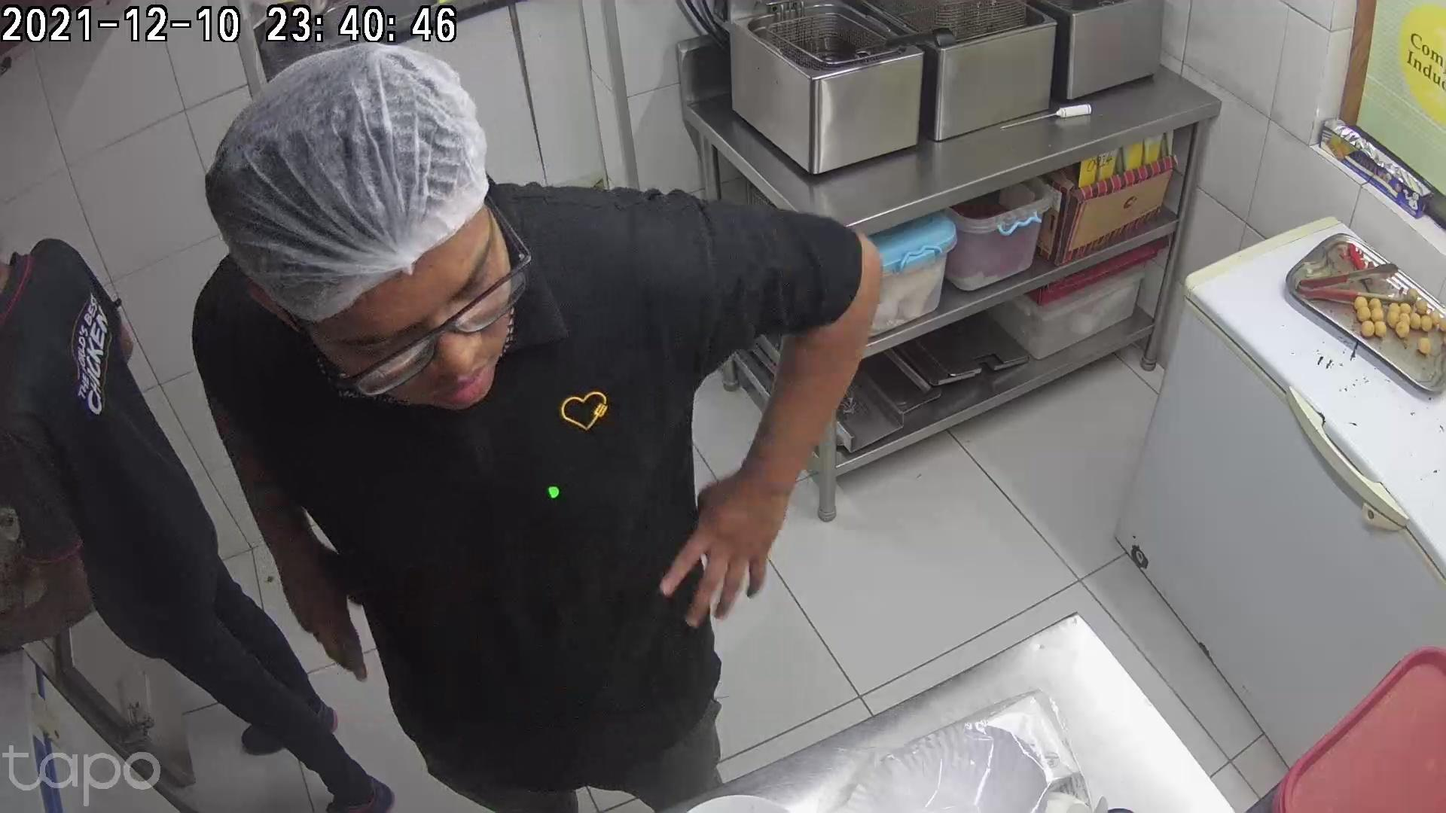no_gloves: (664, 452, 805, 628)
